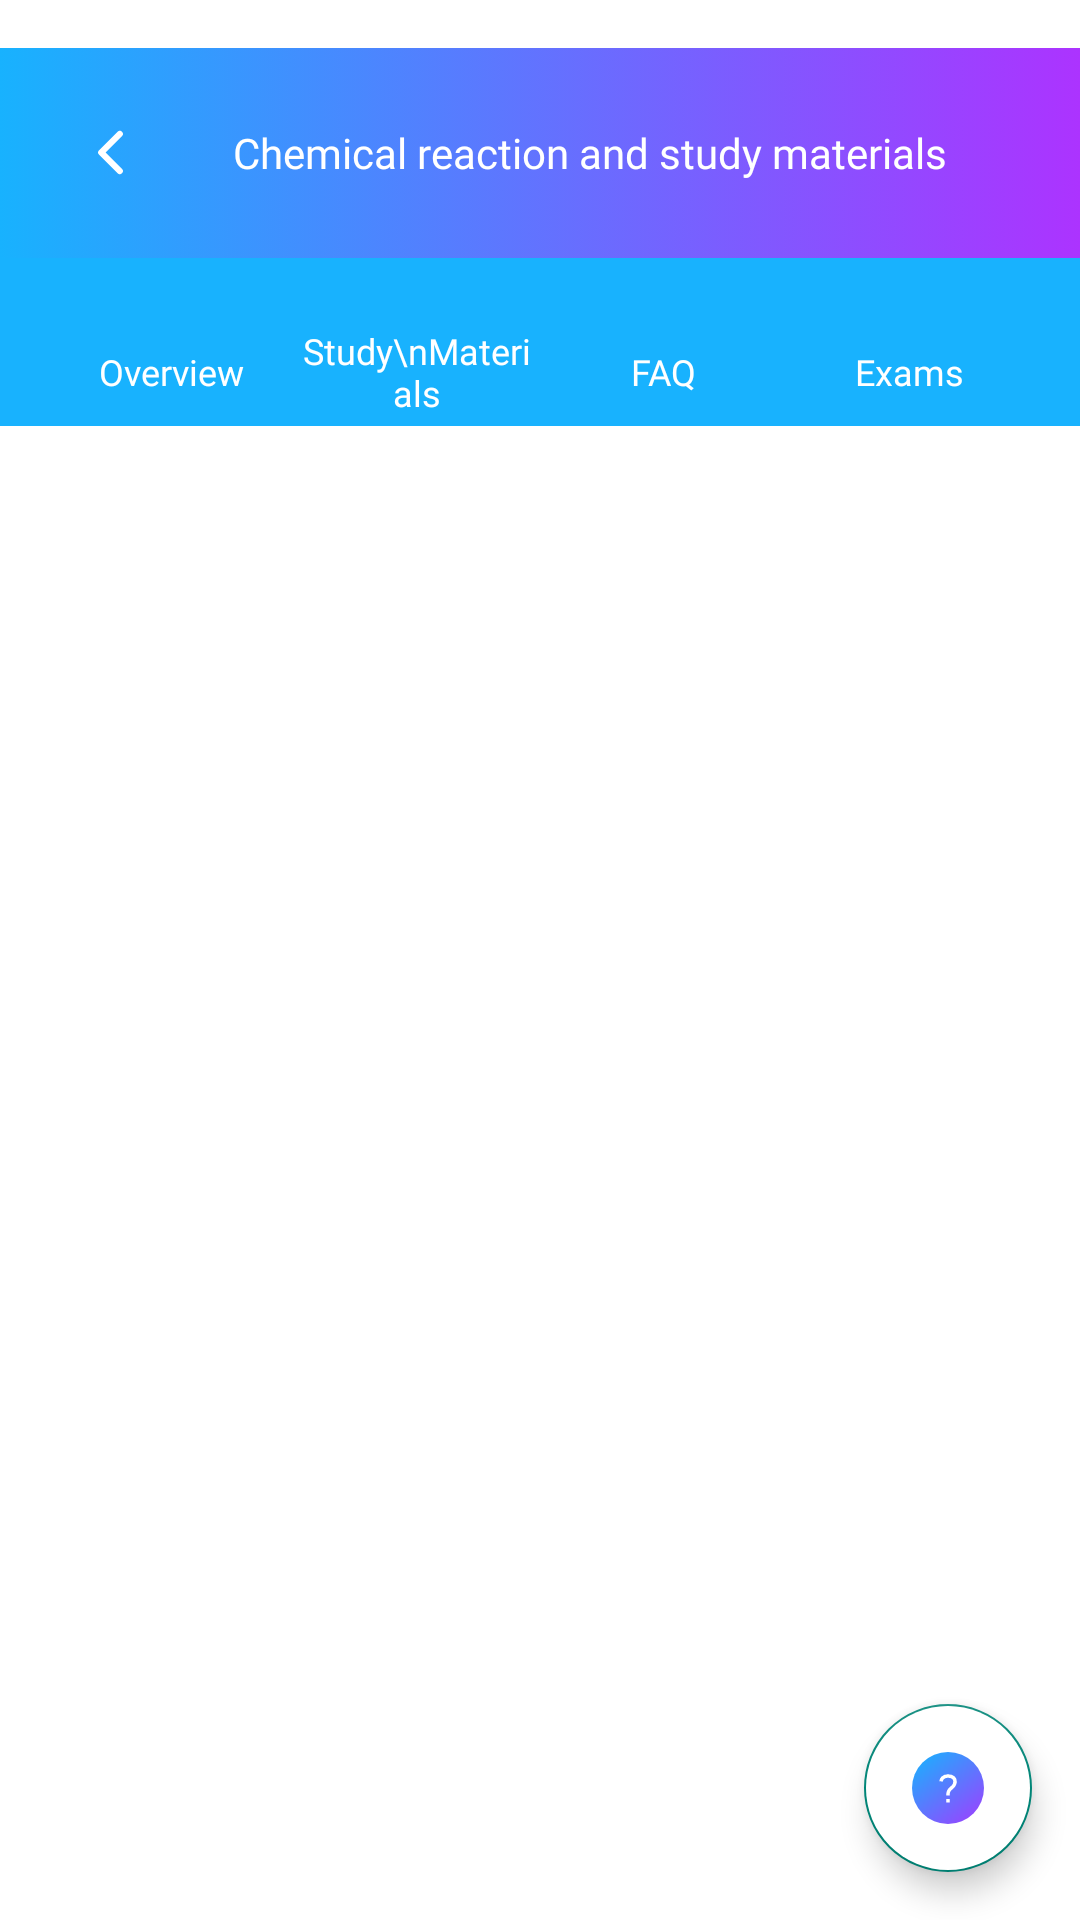

Named icons in this screenshot (1080w x 1920h) and their centers, (x,y):
back arrow: (110,152)
help: (948,1788)
